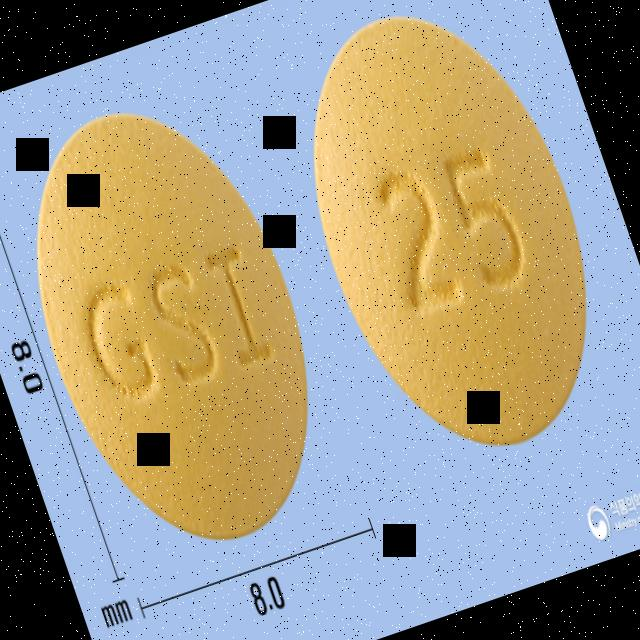Vemlidy Tab: (260, 0, 639, 482), (0, 72, 359, 576)
